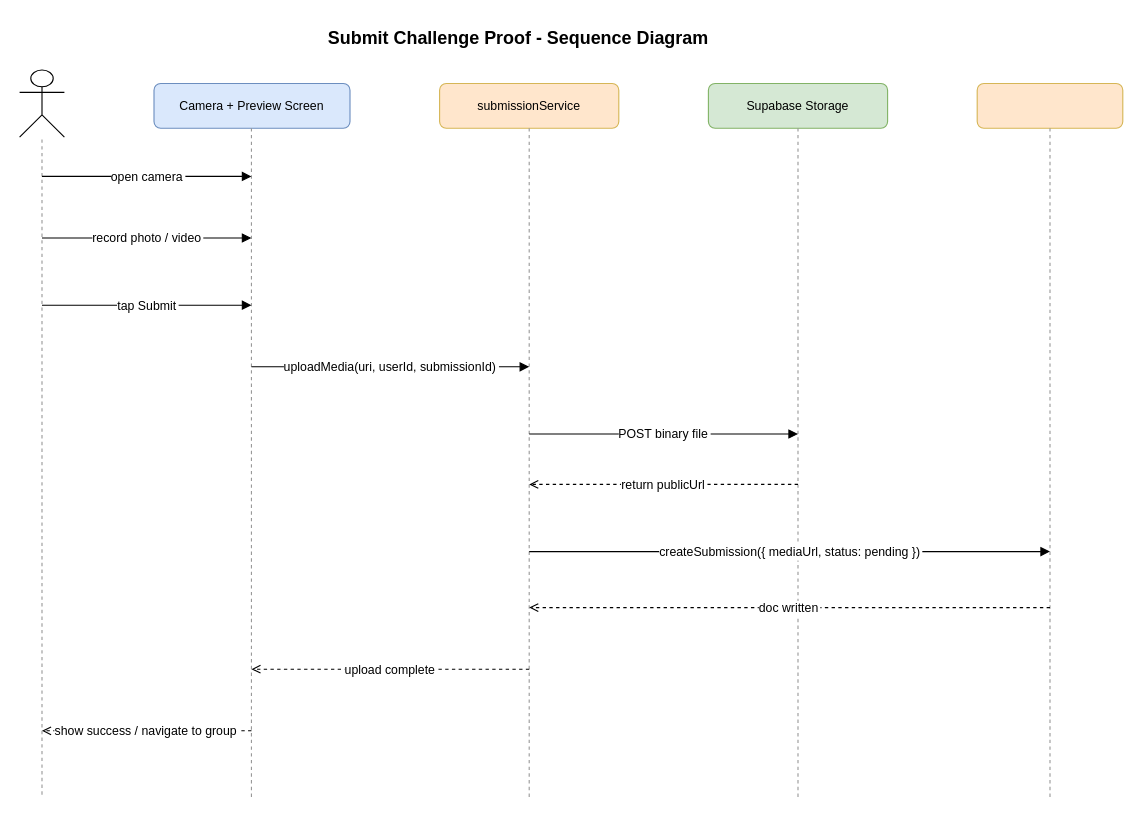
This 1142x819 diagram has some shape labels left out. The centre of each missing label's shape, as x and y in pixels:
Firestore: (1049,105)
User: (41,103)
